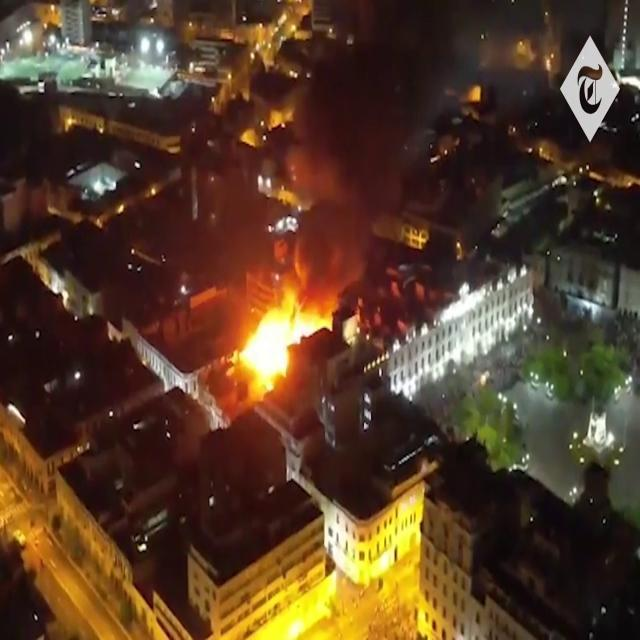Fire: (406, 282, 532, 386), (228, 284, 320, 392)
Smoke: (280, 1, 496, 281)
